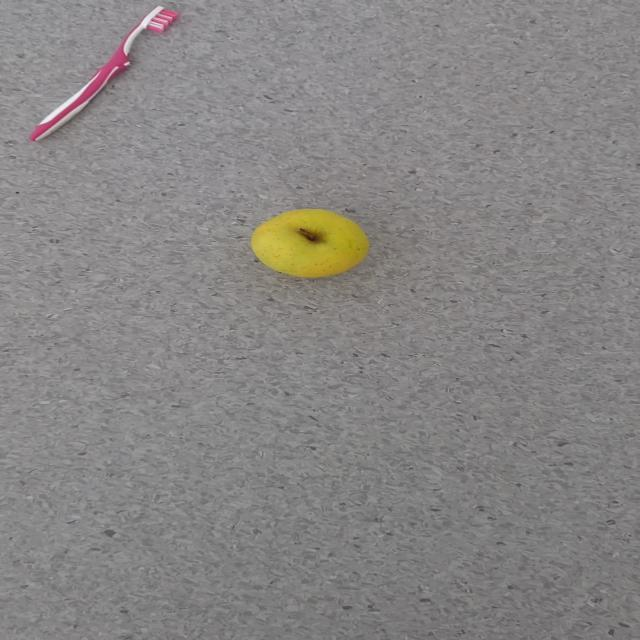apple: (250, 208, 369, 278)
toothbrush: (27, 5, 179, 142)
